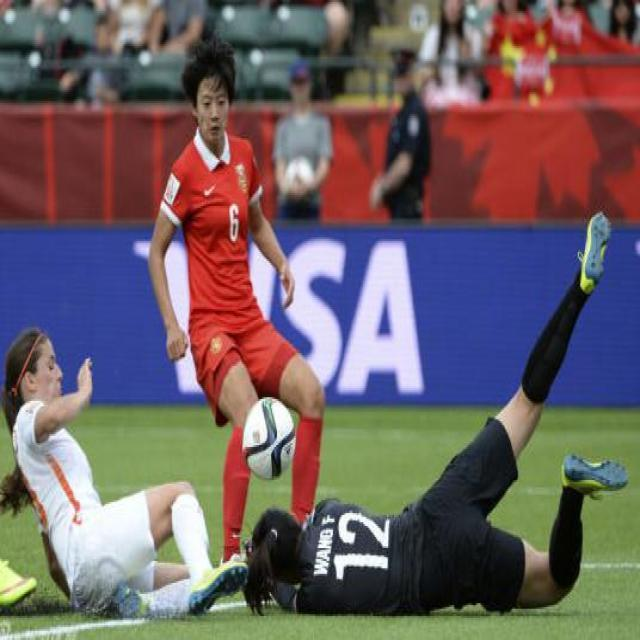fall: (245, 406, 602, 605), (1, 324, 229, 625)
